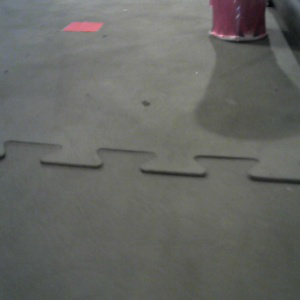Right: (208, 1, 270, 42)
